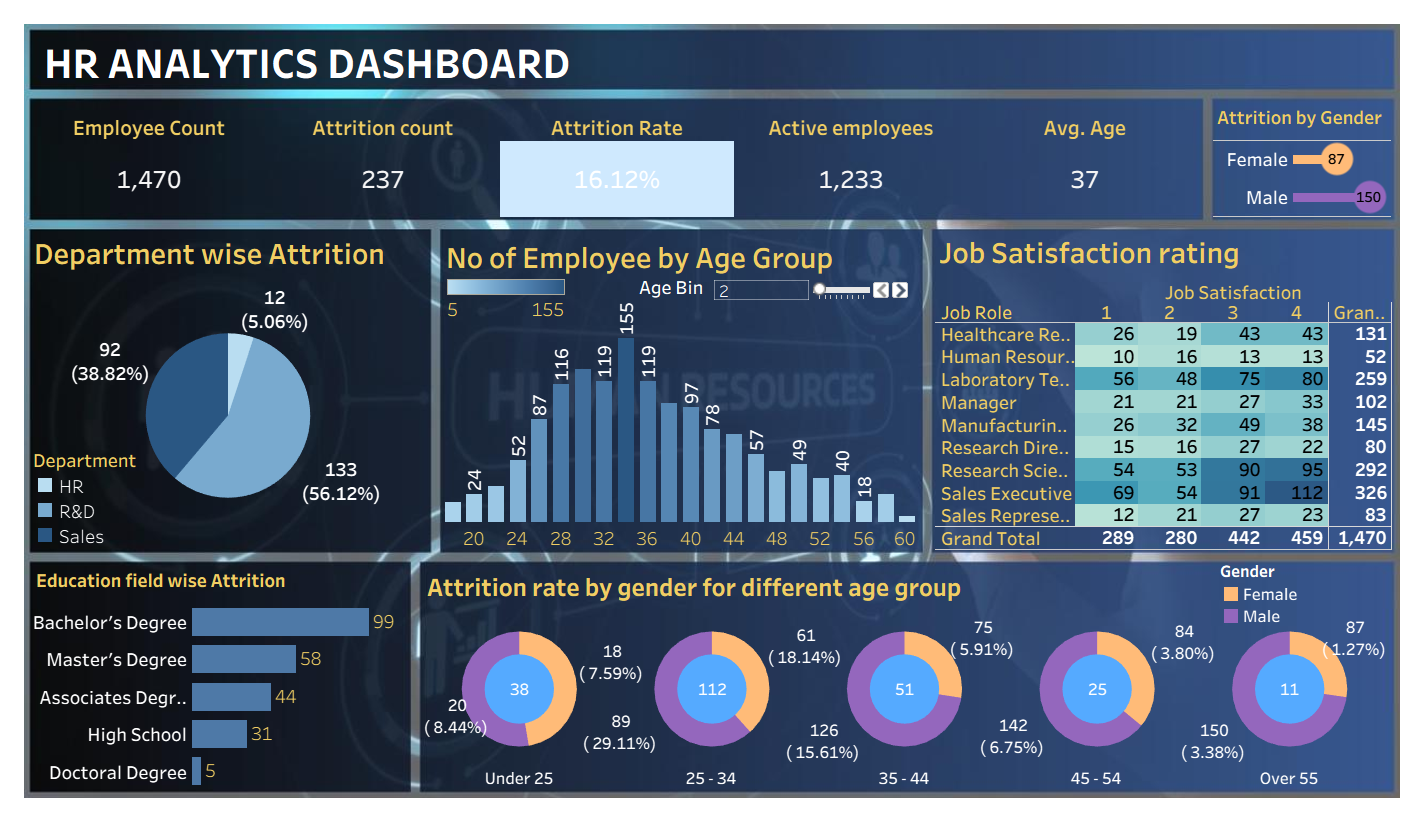

This screenshot's page, from the dashboard's own definition file:
{"tool":"tableau","page":{"name":"HR ANALYSTICS DASHBOARD","canvas":[1400,800],"ordinal":0},"visuals":[{"type":"image","param":"C:/Users/vshivani/Desktop/shivani/Tableau/HR analysis/HR background.jpg","box":[8,8,1384,784]},{"type":"text","box":[28,30,796,41]},{"type":"worksheet","title":"Attrition by Gender","mark":"Automatic","rows":["Gender"],"cols":["Calculation_145241146641149952","Calculation_145241146641149952"],"box":[1201,89,178,117]},{"type":"worksheet","title":"KPI","mark":"Automatic","box":[20,90,1170,116]},{"type":"worksheet","title":"Job Satisfaction rating","mark":"Square","rows":["Job Role"],"cols":["Job Satisfaction"],"box":[923,218,457,321]},{"type":"worksheet","title":"Department wise Attrition","mark":"Pie","box":[18,219,396,318]},{"type":"worksheet","title":"No of Employee by Age Group","mark":"Automatic","rows":["Employee Count"],"cols":["Age (bin)"],"box":[430,223,476,317]},{"type":"legend","title":"No of Employee by Age Group","param":"[federated.1ywrt0g02dgmp41gdbn5m0e4eg40].[sum:Employee Count:qk]","box":[431,264,126,43]},{"type":"parameter","param":"[Parameters].[Parameter 1]","box":[627,266,272,43]},{"type":"legend","title":"Department wise Attrition","param":"[federated.1ywrt0g02dgmp41gdbn5m0e4eg40].[none:Department:nk]","box":[21,436,140,101]},{"type":"legend","title":"Attrition rate by gender for different age group","param":"[federated.1ywrt0g02dgmp41gdbn5m0e4eg40].[none:Gender:nk]","box":[1208,549,107,73]},{"type":"worksheet","title":"Education field wise Attrition","mark":"Automatic","rows":["Education"],"cols":["Calculation_145241146641149952"],"box":[20,552,376,227]},{"type":"worksheet","title":"Attrition rate by gender for different age group","mark":"Pie","rows":["Calculation_145241146665967621","Calculation_145241146665967621"],"cols":["CF_age band"],"box":[411,555,963,224]}]}

Visuals, with their boxes in screenshot pixels (x1, y1, x2, y2), scaled from the page's 1400x800 canvas onto the 1415x820 screenshot:
image: <box>8,8,1407,812</box>
text: <box>28,31,833,73</box>
"Attrition by Gender" worksheet: <box>1214,91,1394,211</box>
"KPI" worksheet: <box>20,92,1203,211</box>
"Job Satisfaction rating" worksheet (Square marks): <box>933,223,1395,552</box>
"Department wise Attrition" worksheet (Pie marks): <box>18,224,418,550</box>
"No of Employee by Age Group" worksheet: <box>435,229,916,554</box>
"No of Employee by Age Group" legend: <box>436,271,563,315</box>
parameter: <box>634,273,909,317</box>
"Department wise Attrition" legend: <box>21,447,163,550</box>
"Attrition rate by gender for different age group" legend: <box>1221,563,1329,638</box>
"Education field wise Attrition" worksheet: <box>20,566,400,798</box>
"Attrition rate by gender for different age group" worksheet (Pie marks): <box>415,569,1389,798</box>
